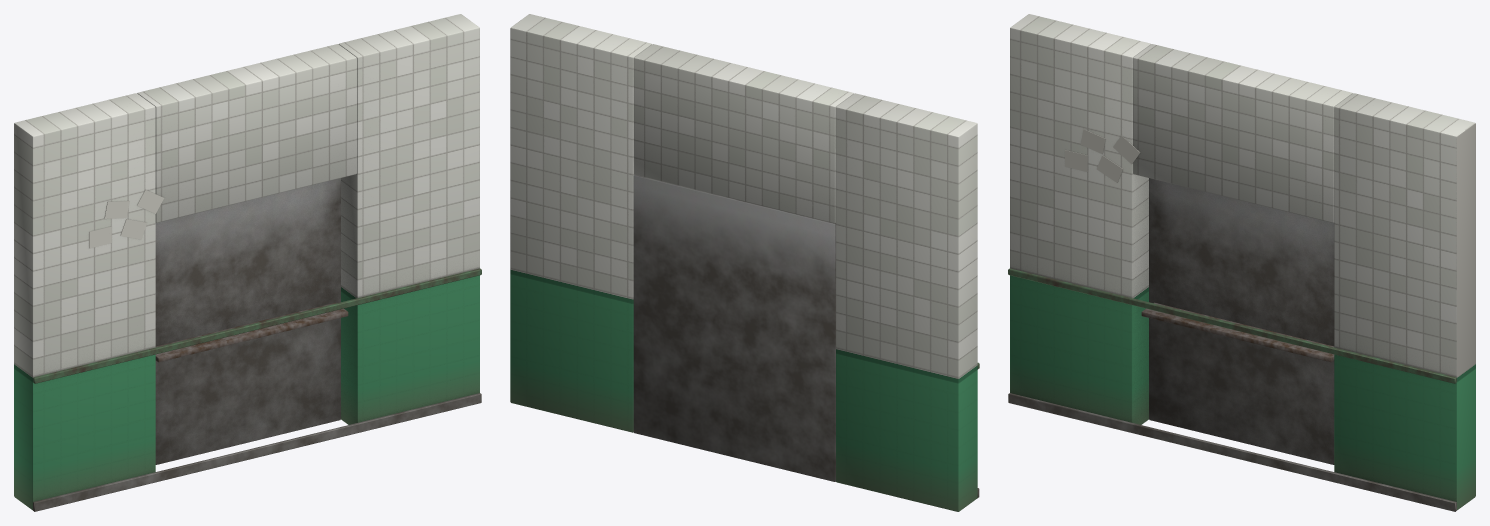
Rendered from g67_pz_wall_d.glb.
The picture shows the model from 3 angles, left to right: view 1: azimuth 30°, elevation 25°; view 2: azimuth 150°, elevation 25°; view 3: azimuth 330°, elevation 25°; orthographic projection.
Parts seen in each view (by area): view 1: g67_pz_wall_d; view 2: g67_pz_wall_d; view 3: g67_pz_wall_d.
Boxes of the visible parts, x1,y1,x2,y2 form: g67_pz_wall_d: (14, 14, 481, 511); g67_pz_wall_d: (510, 14, 979, 511); g67_pz_wall_d: (1008, 14, 1475, 511).
Size of the model in its own units: 4 by 3.2 by 0.327.
1 material, 1 textured.
